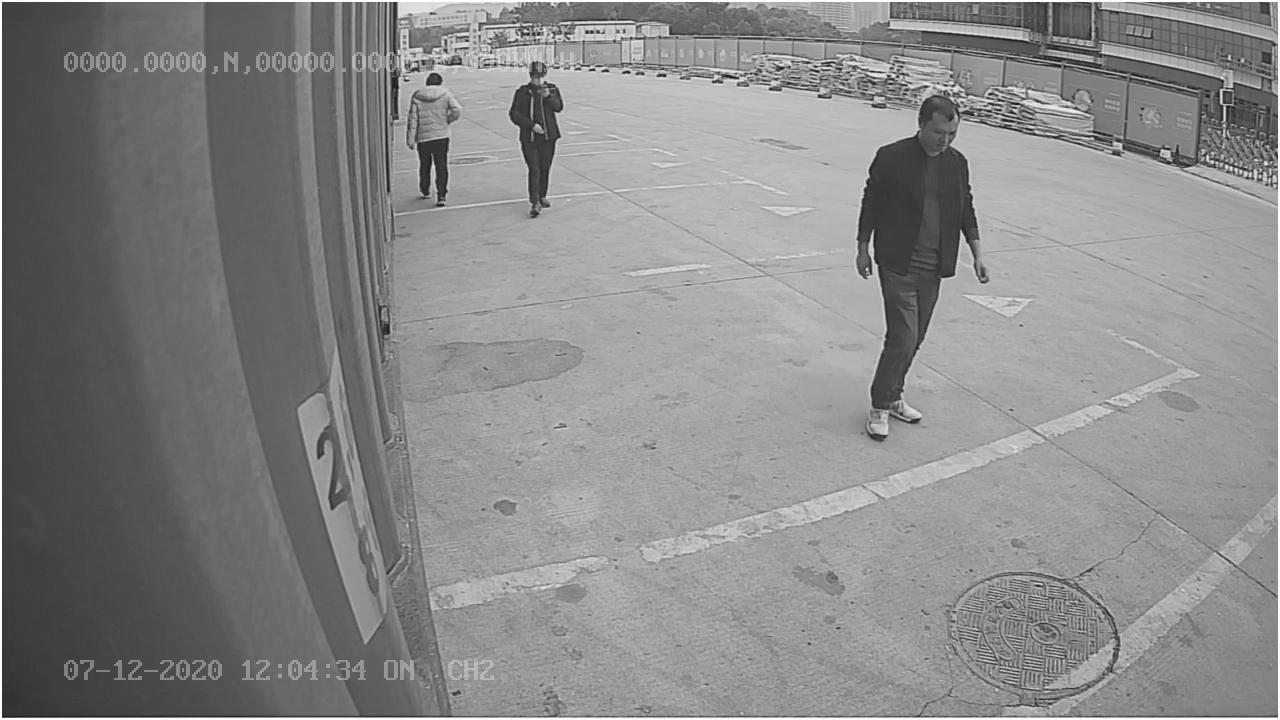person: (852, 94, 994, 439)
